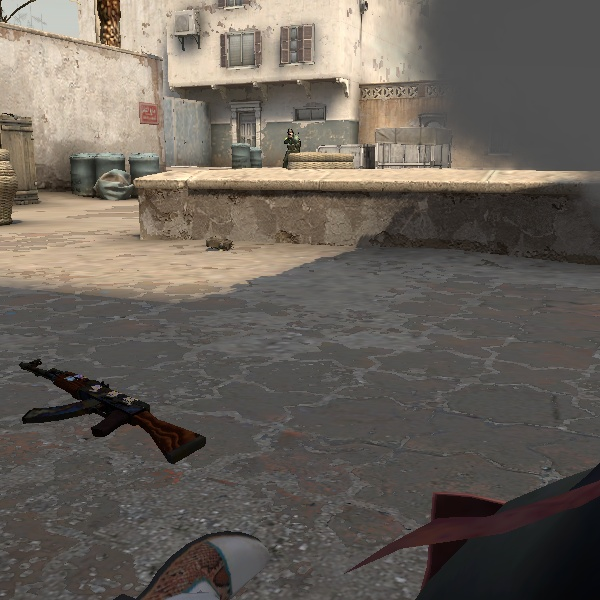ct_body: (279, 124, 304, 169)
ct_head: (286, 126, 297, 138)
